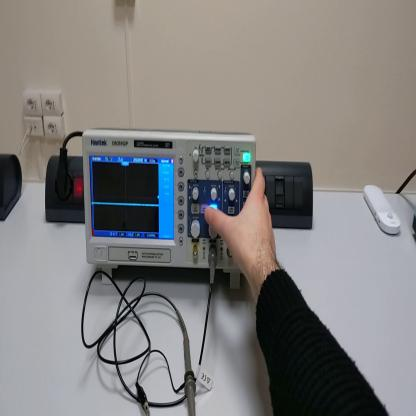hand: (206, 166, 278, 279)
oscilloscope: (83, 129, 257, 292)
oscilloscope probe tip: (184, 314, 199, 416)
socket: (46, 157, 87, 224), (2, 153, 25, 225)
